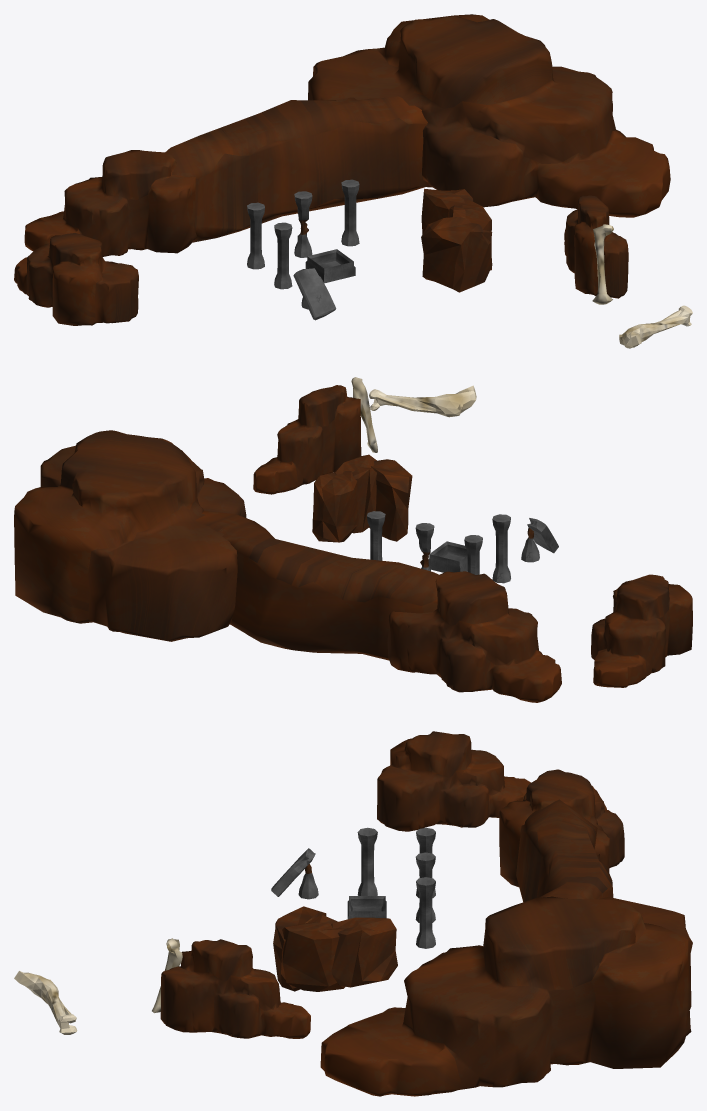
File: LV2Wall.fbx
3 renders of one model, top to bottom at view 1: azimuth 30°, elevation 25°; view 2: azimuth 150°, elevation 25°; view 3: azimuth 270°, elevation 25°, orthographic. The views are drawn at different scales.
Visible parts, largest first — view 1: pCylinder40; view 2: pCylinder40; view 3: pCylinder40.
Part boxes in pixels (<box>): pCylinder40: <box>14,14,692,348</box>; pCylinder40: <box>14,377,692,702</box>; pCylinder40: <box>14,731,692,1096</box>.
Bounding box in the file's own units: 481 × 96.74 × 442.
